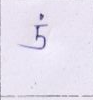anusvara: (39, 14, 44, 20)
